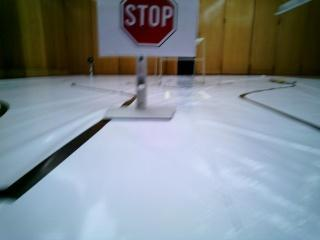stop: (103, 0, 189, 54)
